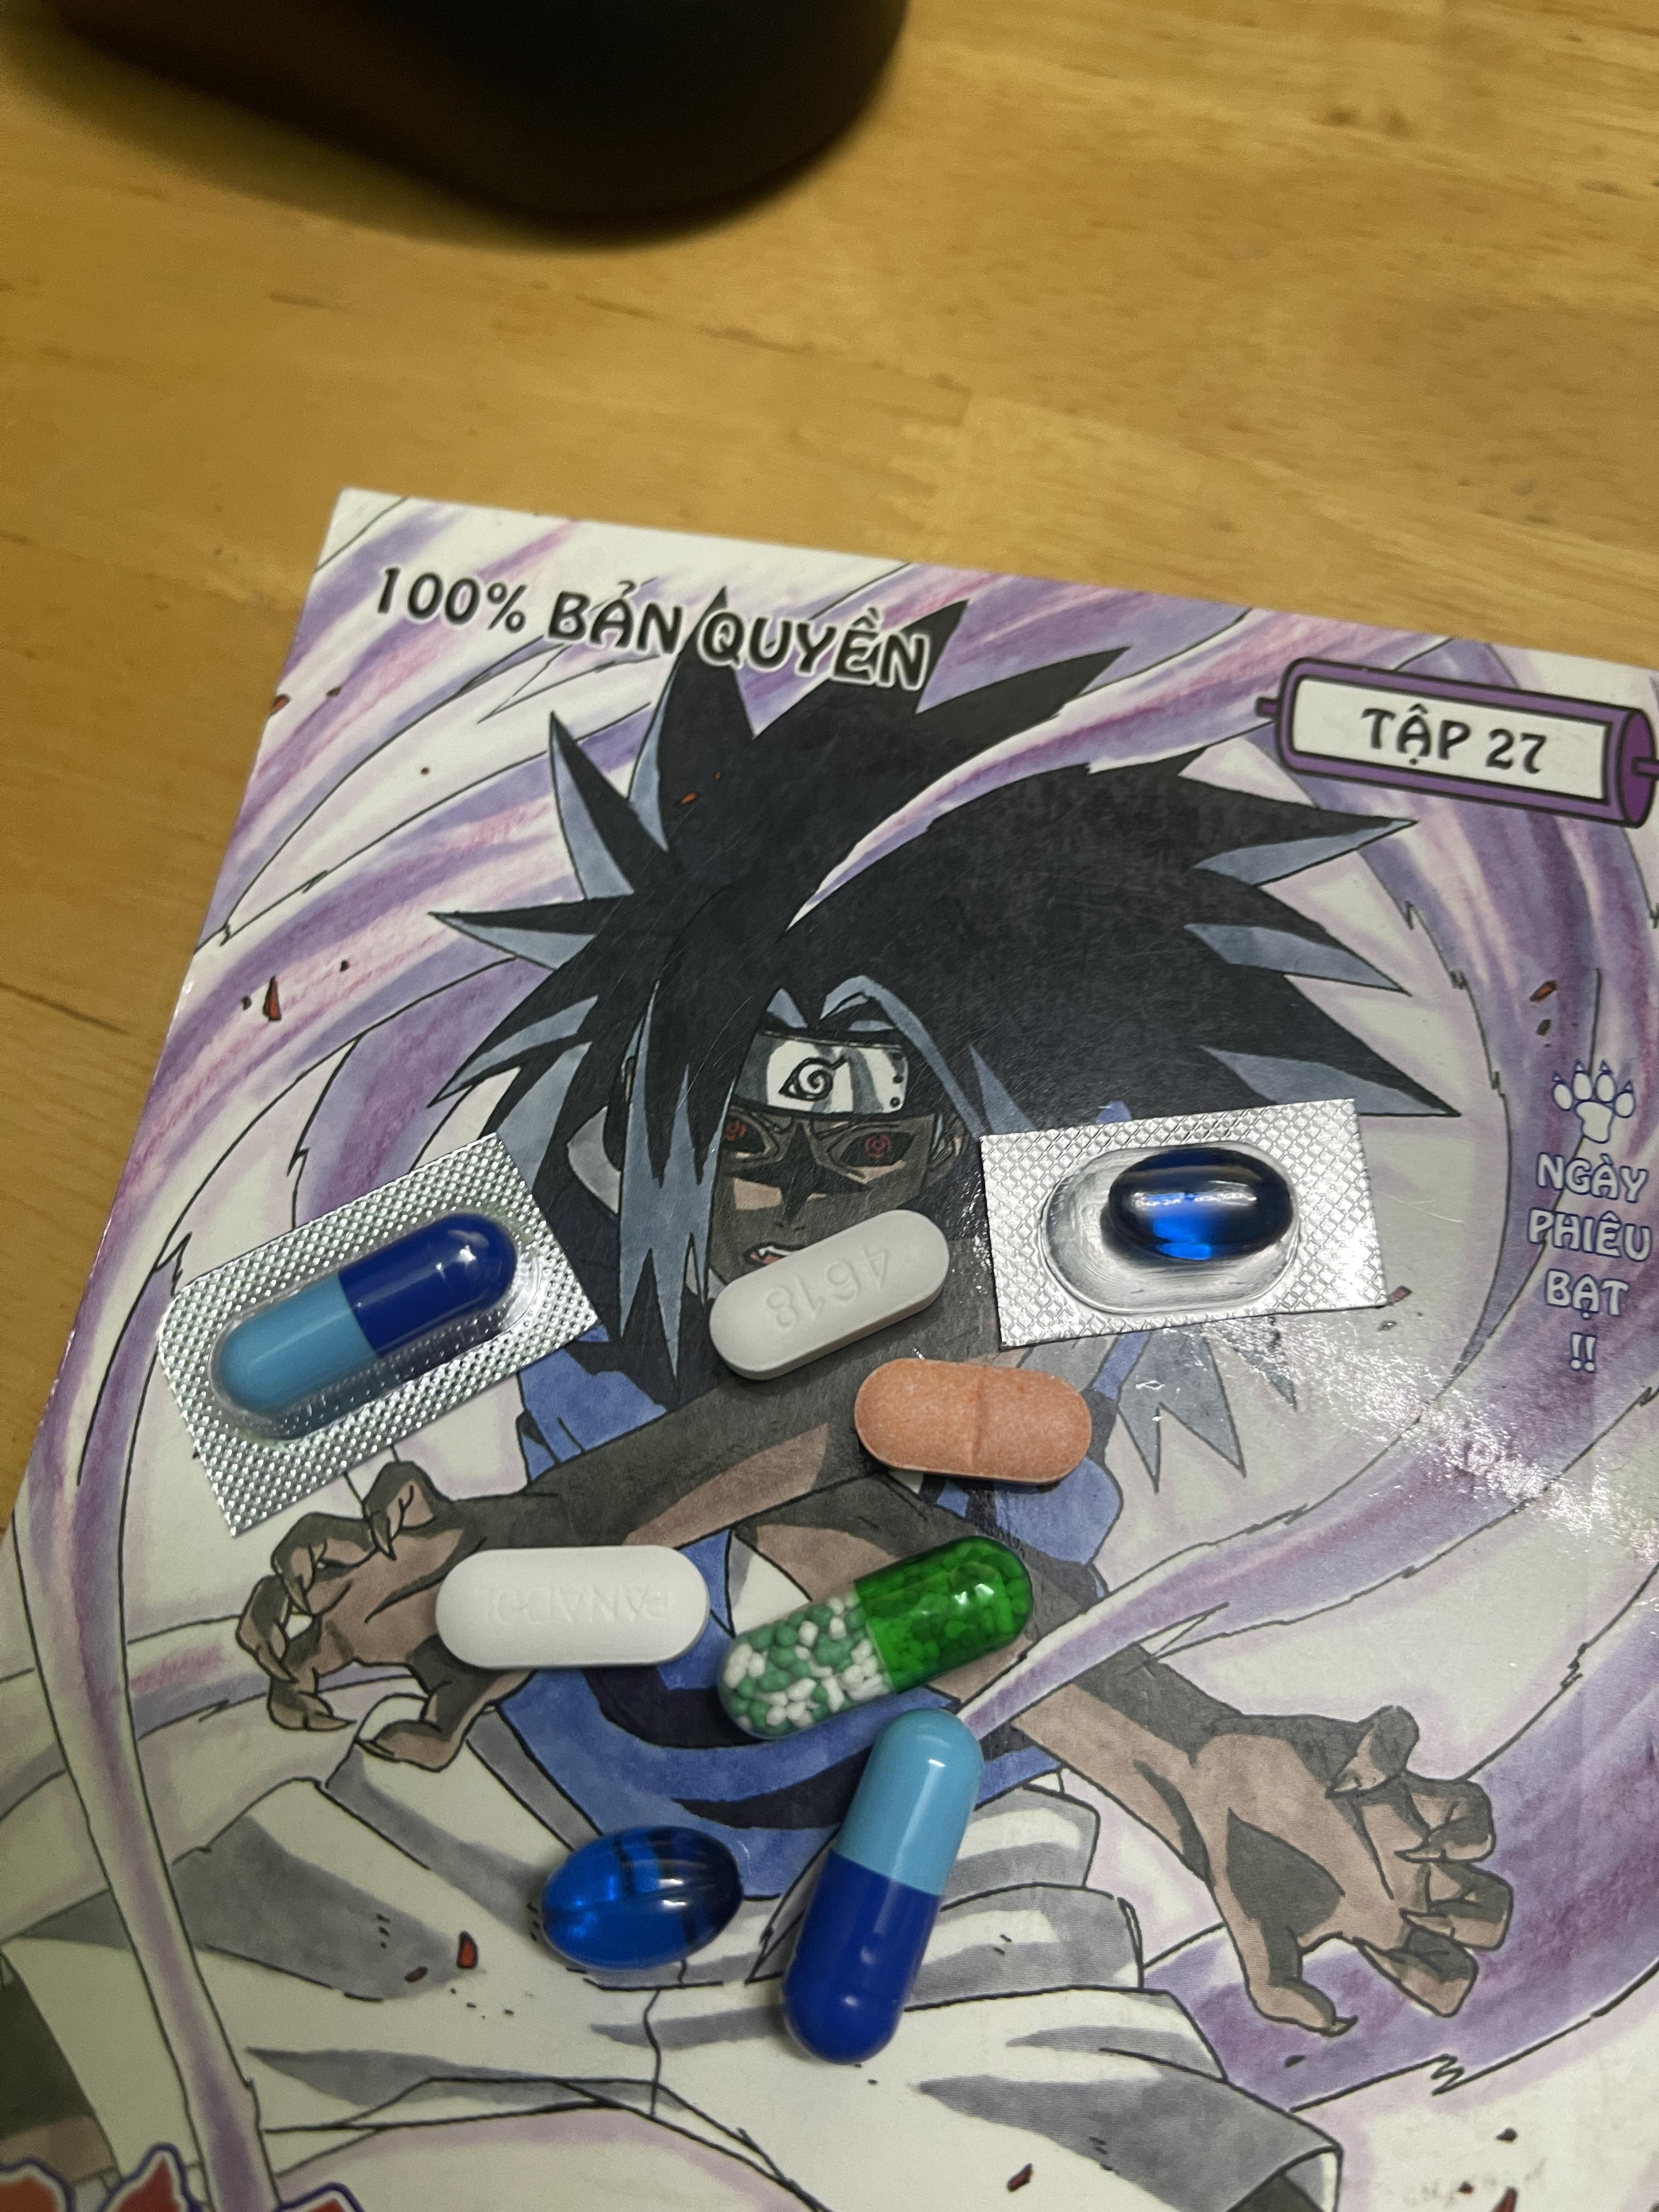Lincomyxin_500mg: (538, 1824, 742, 1965), (1101, 1146, 1286, 1268)
Loratadine_10mg: (854, 1357, 1093, 1482)
Paracetamol_350mg: (436, 1547, 711, 1672)
Paracetamol_500mg: (706, 1204, 953, 1379)
Paracetamol_650mg: (725, 1541, 1028, 1730)
pill: (777, 1703, 983, 2062), (218, 1216, 514, 1426)
